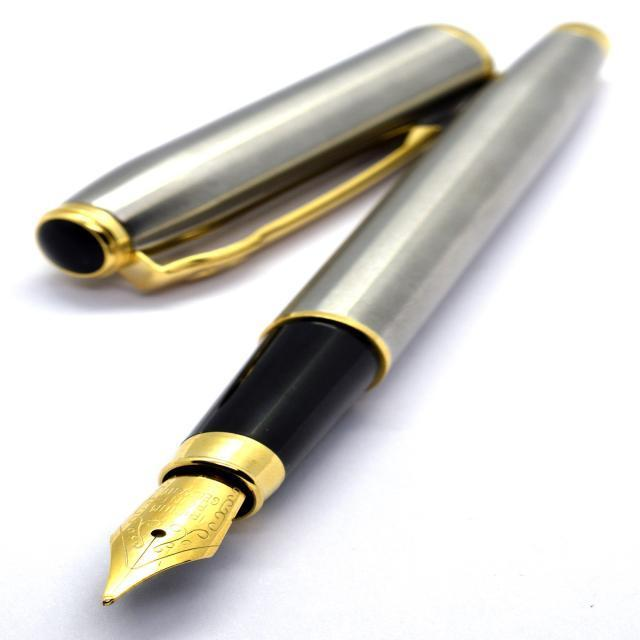Pen - Non Recyclable: (90, 20, 610, 606)
